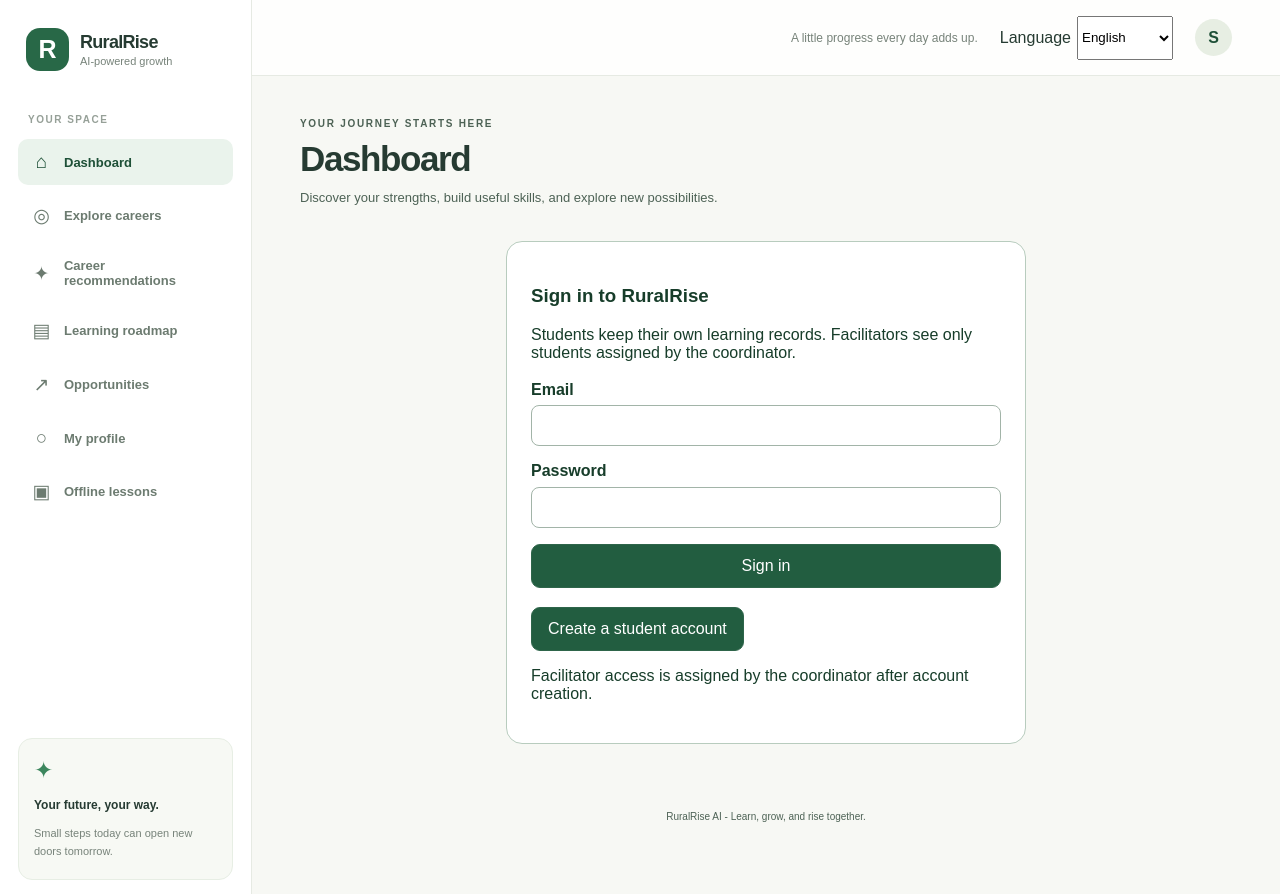
Test: signs in a student then switches to a teacher without retaining the student screen
Type "student@example.test" into the field labelled "Email" at [766, 426], box left=531, top=405, right=1001, bottom=446
Type "example-password" into the password field labelled "Password" at [766, 507], box left=531, top=486, right=1001, bottom=528
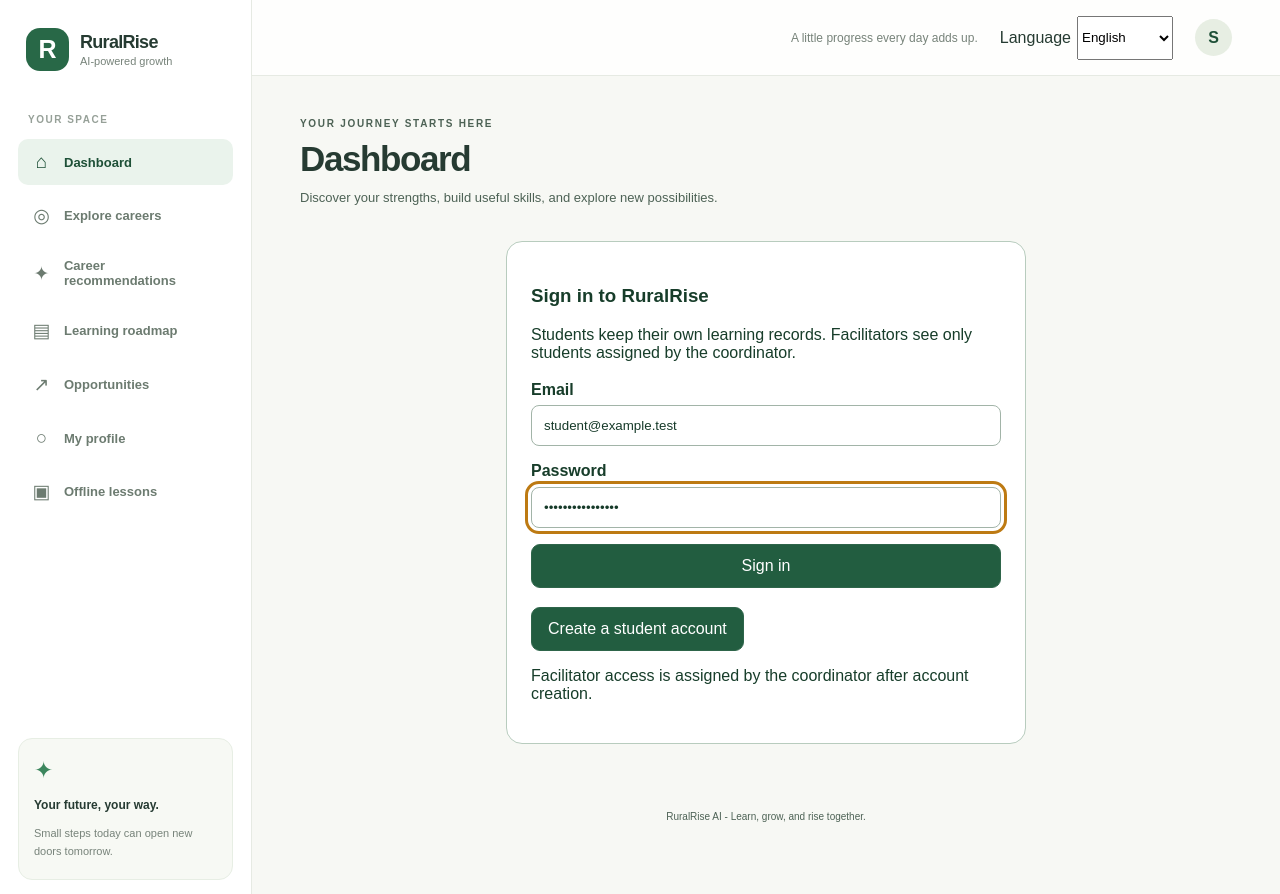
Click the button "Sign in" at [766, 566], box left=531, top=544, right=1001, bottom=588
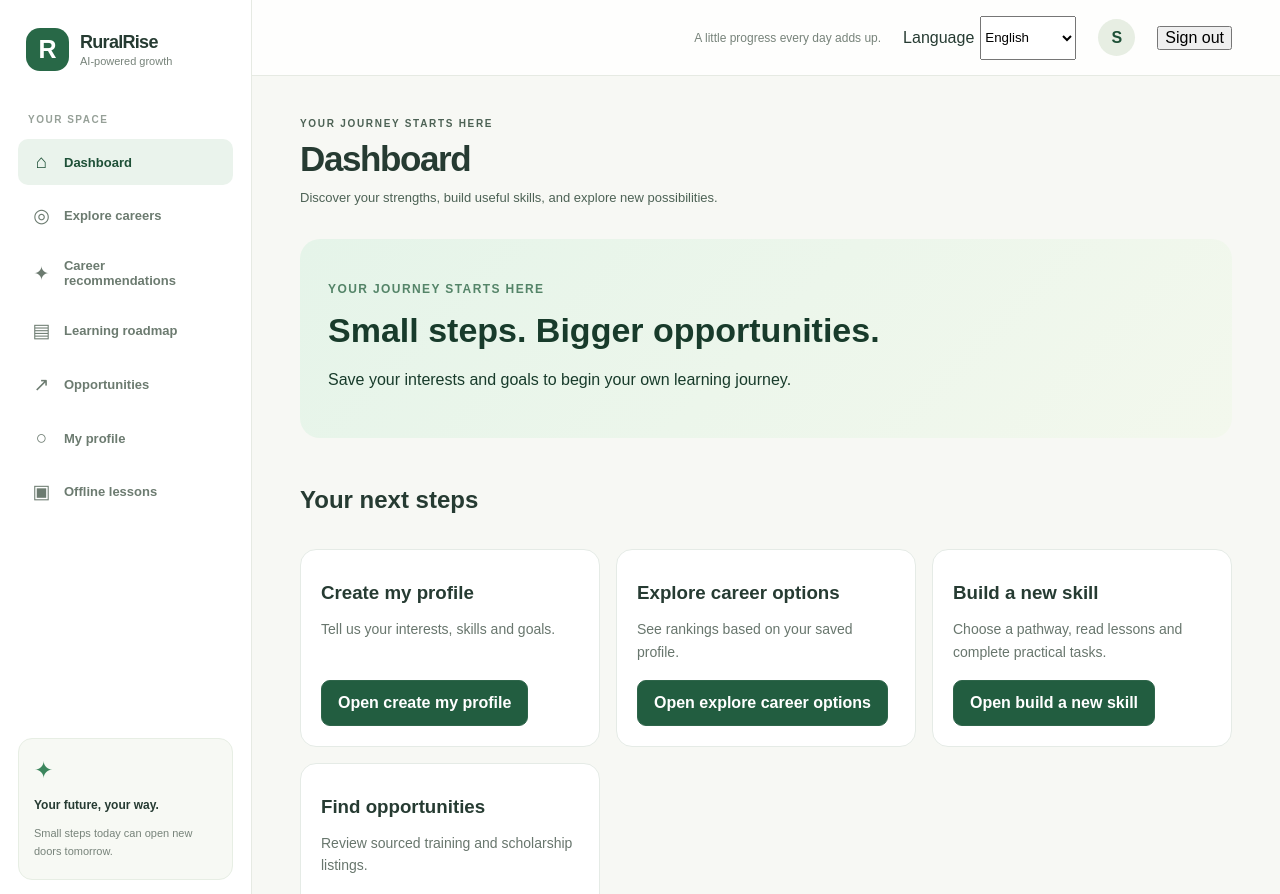
Check: the button "Facilitator dashboard" is not shown
Check: the button "Open create my profile" is shown, box left=321, top=680, right=528, bottom=726
Click the button "Sign out" at [1195, 38], box left=1157, top=26, right=1232, bottom=50
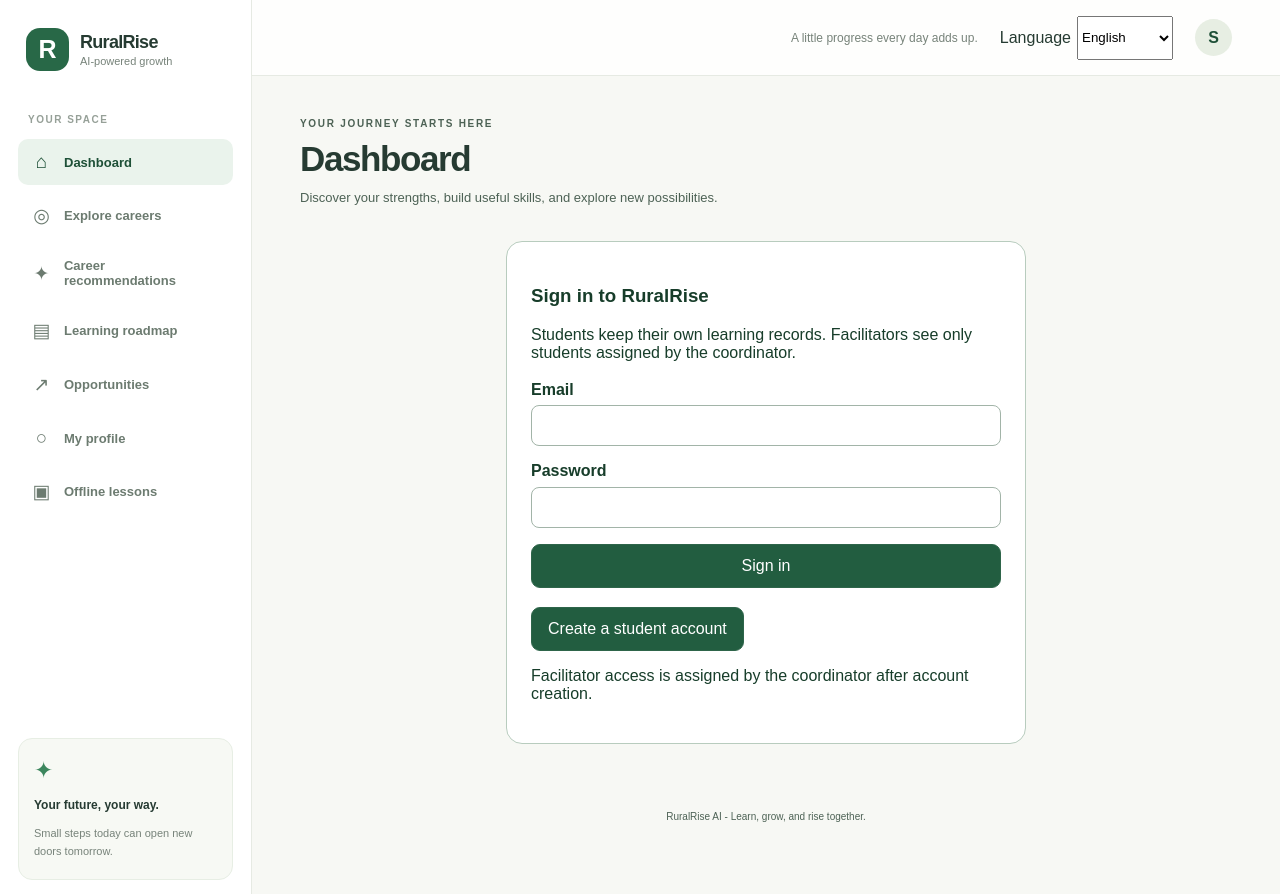
Type "teacher@example.test" into the field labelled "Email" at [766, 426], box left=531, top=405, right=1001, bottom=446
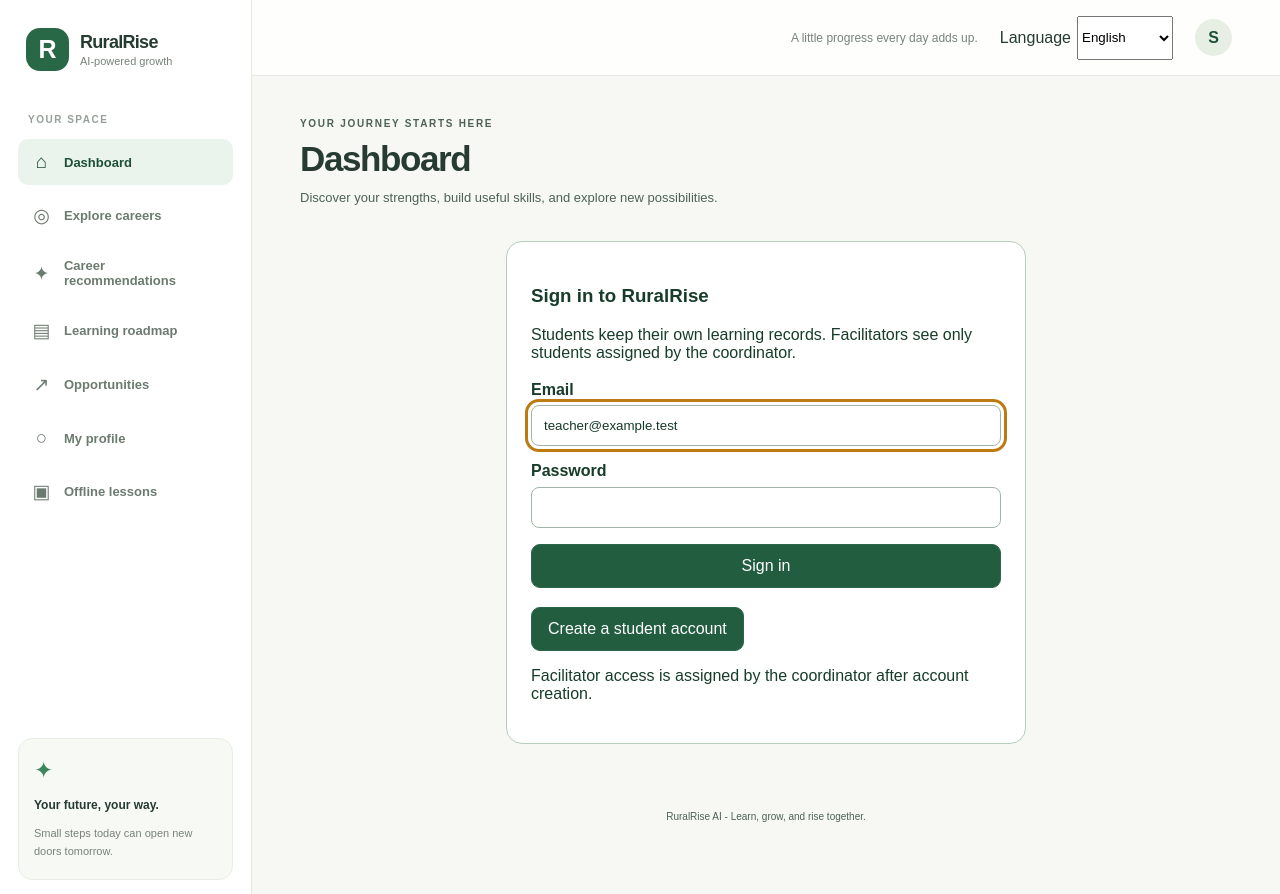
Type "example-password" into the password field labelled "Password" at [766, 507], box left=531, top=486, right=1001, bottom=528
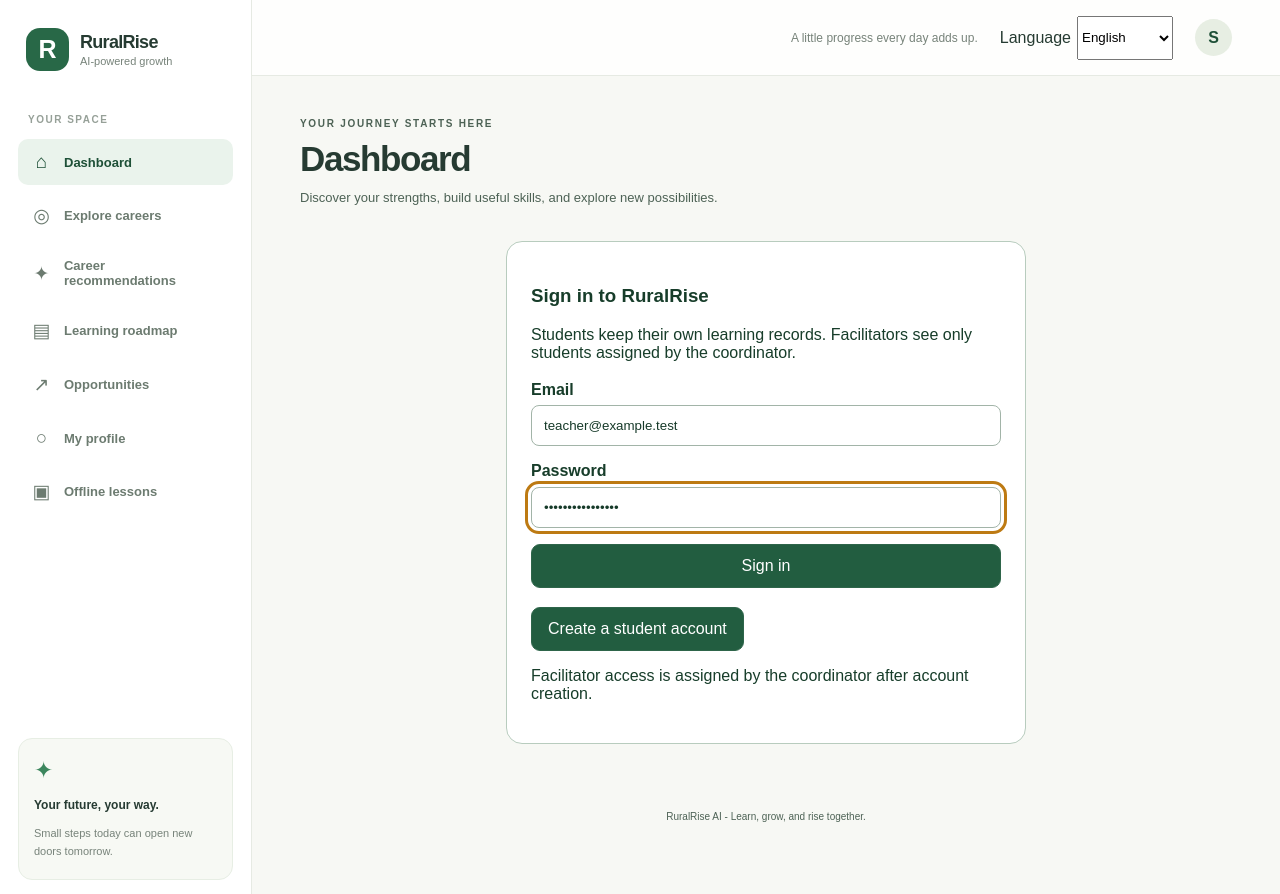
Click the button "Sign in" at [766, 566], box left=531, top=544, right=1001, bottom=588
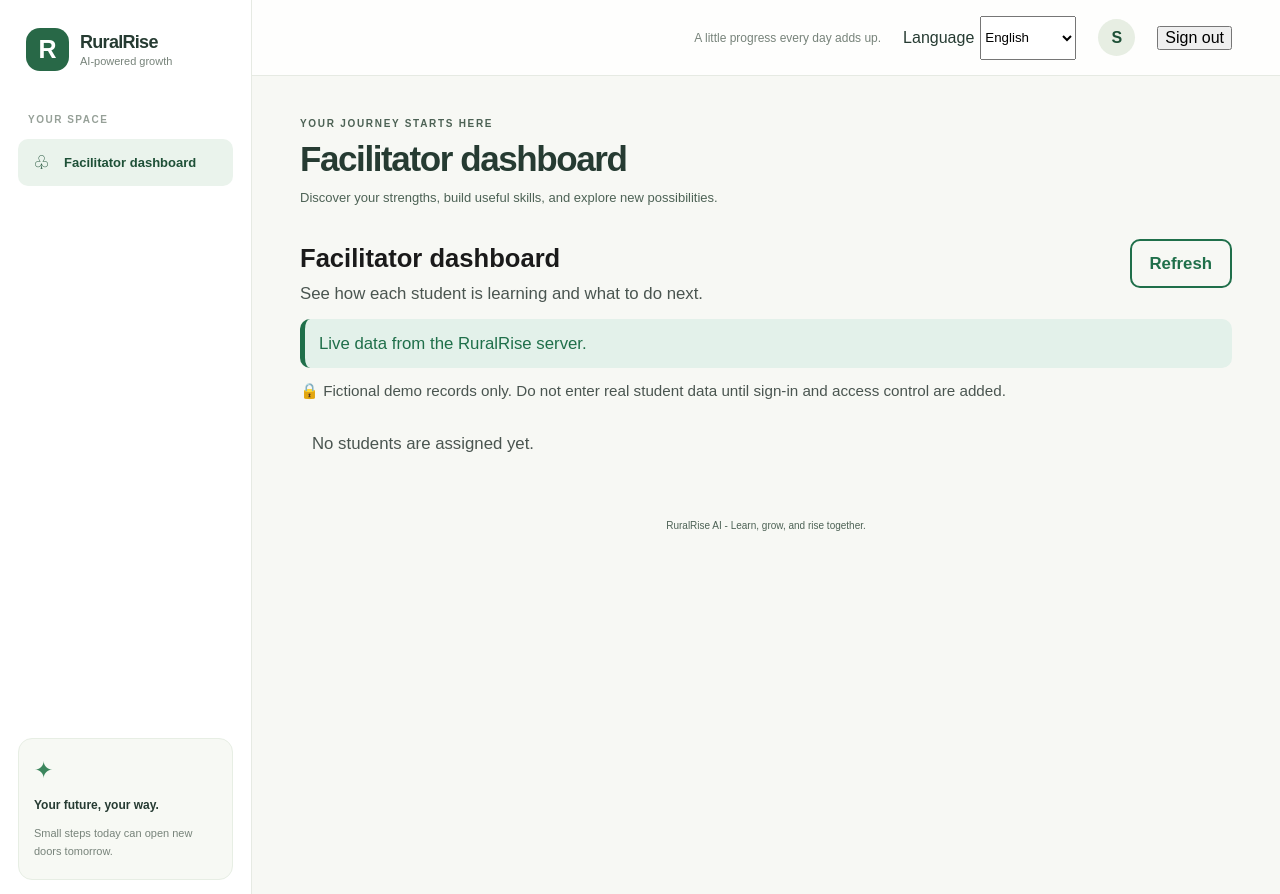
Check: the button "Open create my profile" is not shown
Check: the button "♧ Facilitator dashboard" is shown, box left=18, top=139, right=233, bottom=186
Check: the button "My profile" is gone
